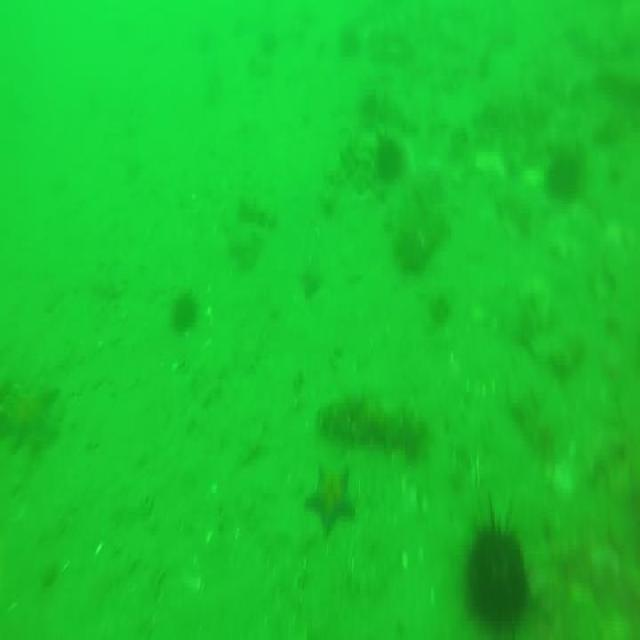echinus: (465, 520, 536, 640), (545, 149, 582, 202), (373, 133, 403, 185), (171, 292, 201, 335)
holothurian: (320, 392, 423, 450)
starfish: (303, 462, 357, 540), (5, 378, 62, 444)
